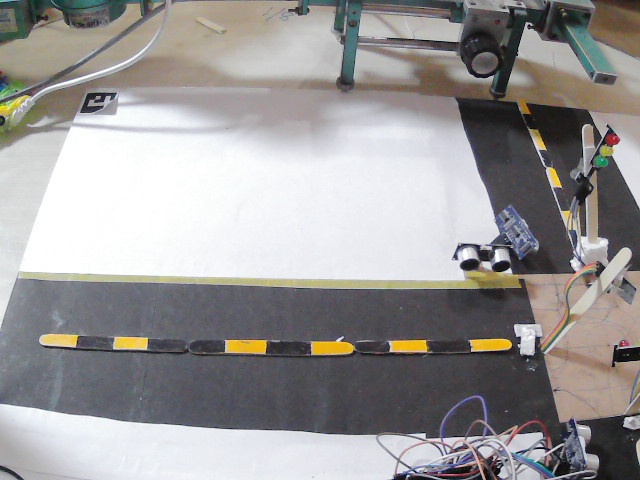aruco_marker: (84, 88, 112, 118)
black_strip: (266, 337, 310, 357), (76, 330, 111, 348), (425, 337, 469, 351), (191, 336, 225, 354), (149, 336, 187, 351), (355, 338, 387, 353), (552, 183, 568, 210), (522, 111, 540, 129), (540, 147, 550, 165), (568, 228, 578, 243)
mixed_lane: (35, 331, 513, 352), (516, 94, 580, 236)
traffic_light: (592, 258, 632, 302), (608, 330, 640, 365)
uno_breadboard: (395, 438, 523, 480), (494, 200, 540, 259), (559, 417, 602, 473), (450, 242, 513, 270)
yellow_strip: (40, 327, 78, 348), (111, 330, 147, 351), (309, 339, 355, 354), (469, 336, 511, 351), (223, 337, 260, 354), (389, 336, 426, 351), (526, 129, 547, 150), (544, 167, 561, 188), (557, 207, 575, 225), (516, 93, 528, 113)
